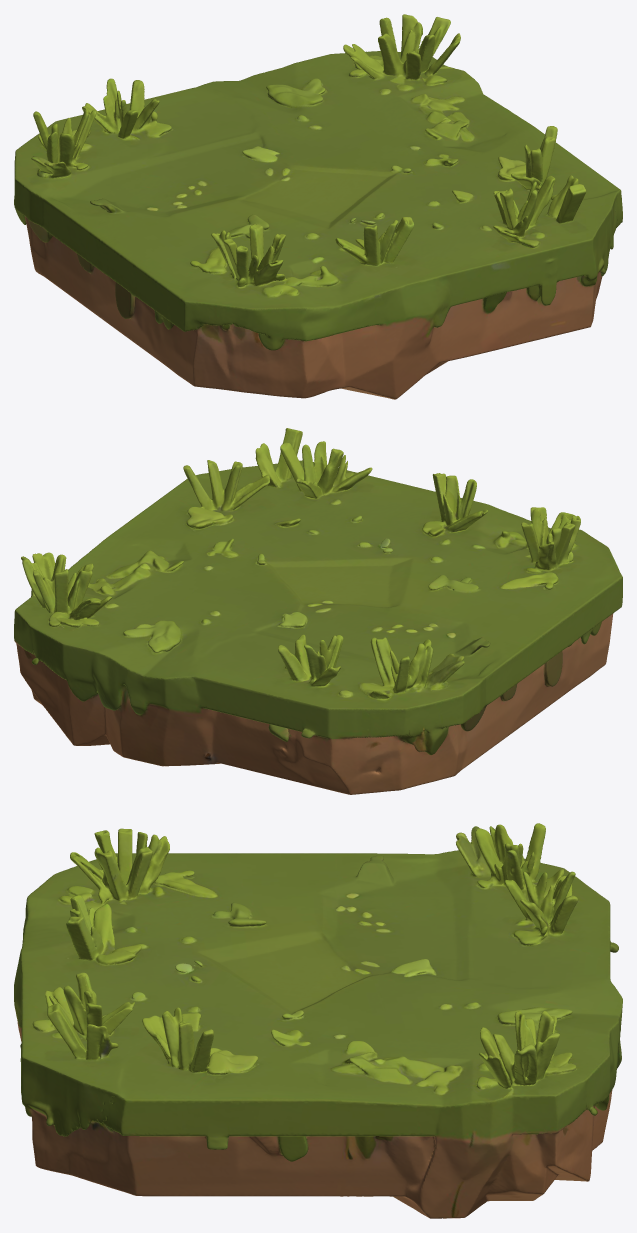
Rendered from grass_platform.glb.
The picture shows the model from 3 angles, top to bottom: view 1: azimuth 30°, elevation 25°; view 2: azimuth 150°, elevation 25°; view 3: azimuth 270°, elevation 25°; orthographic projection. The views are drawn at different scales.
Visible parts, largest first — view 1: tripo_node_078e9c39-d3a1-428d-8162-43bb509f4e19; view 2: tripo_node_078e9c39-d3a1-428d-8162-43bb509f4e19; view 3: tripo_node_078e9c39-d3a1-428d-8162-43bb509f4e19.
Boxes of the visible parts, box(x1,y1,x2,y2) form: tripo_node_078e9c39-d3a1-428d-8162-43bb509f4e19: box(14, 14, 622, 399); tripo_node_078e9c39-d3a1-428d-8162-43bb509f4e19: box(14, 428, 622, 794); tripo_node_078e9c39-d3a1-428d-8162-43bb509f4e19: box(14, 823, 622, 1218).
Size of the model in its own units: 0.9823 by 0.3568 by 1.
1 material, 1 textured.
